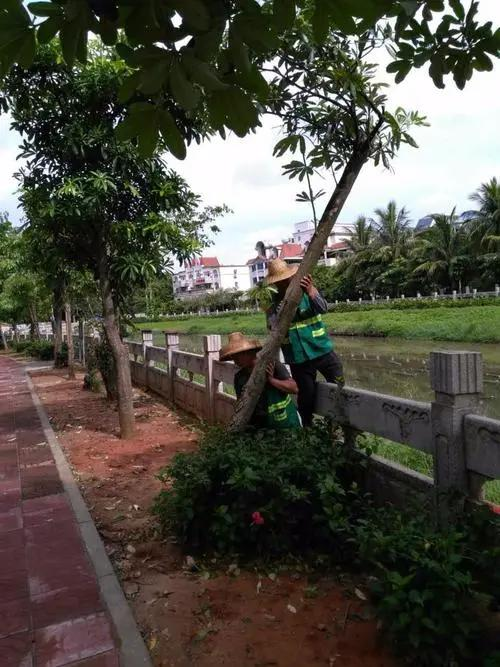Downstairs: (208, 29, 411, 486)
